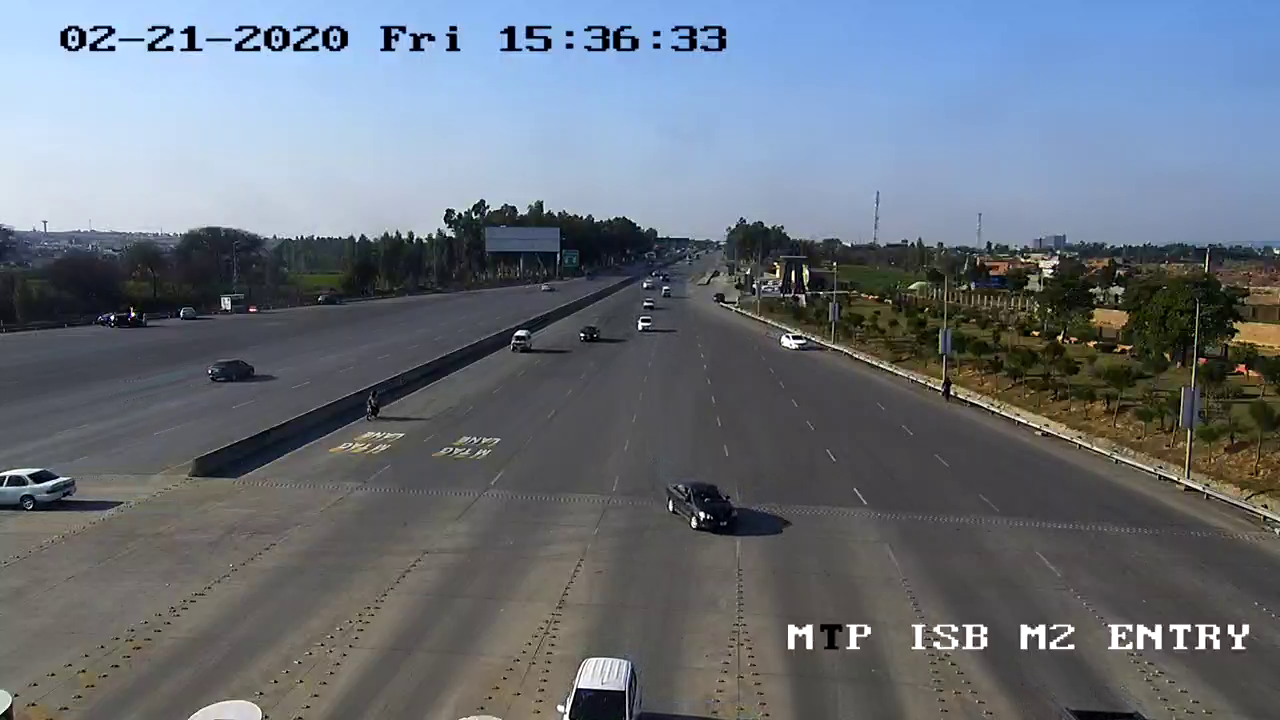f1: (655, 471, 748, 541)
